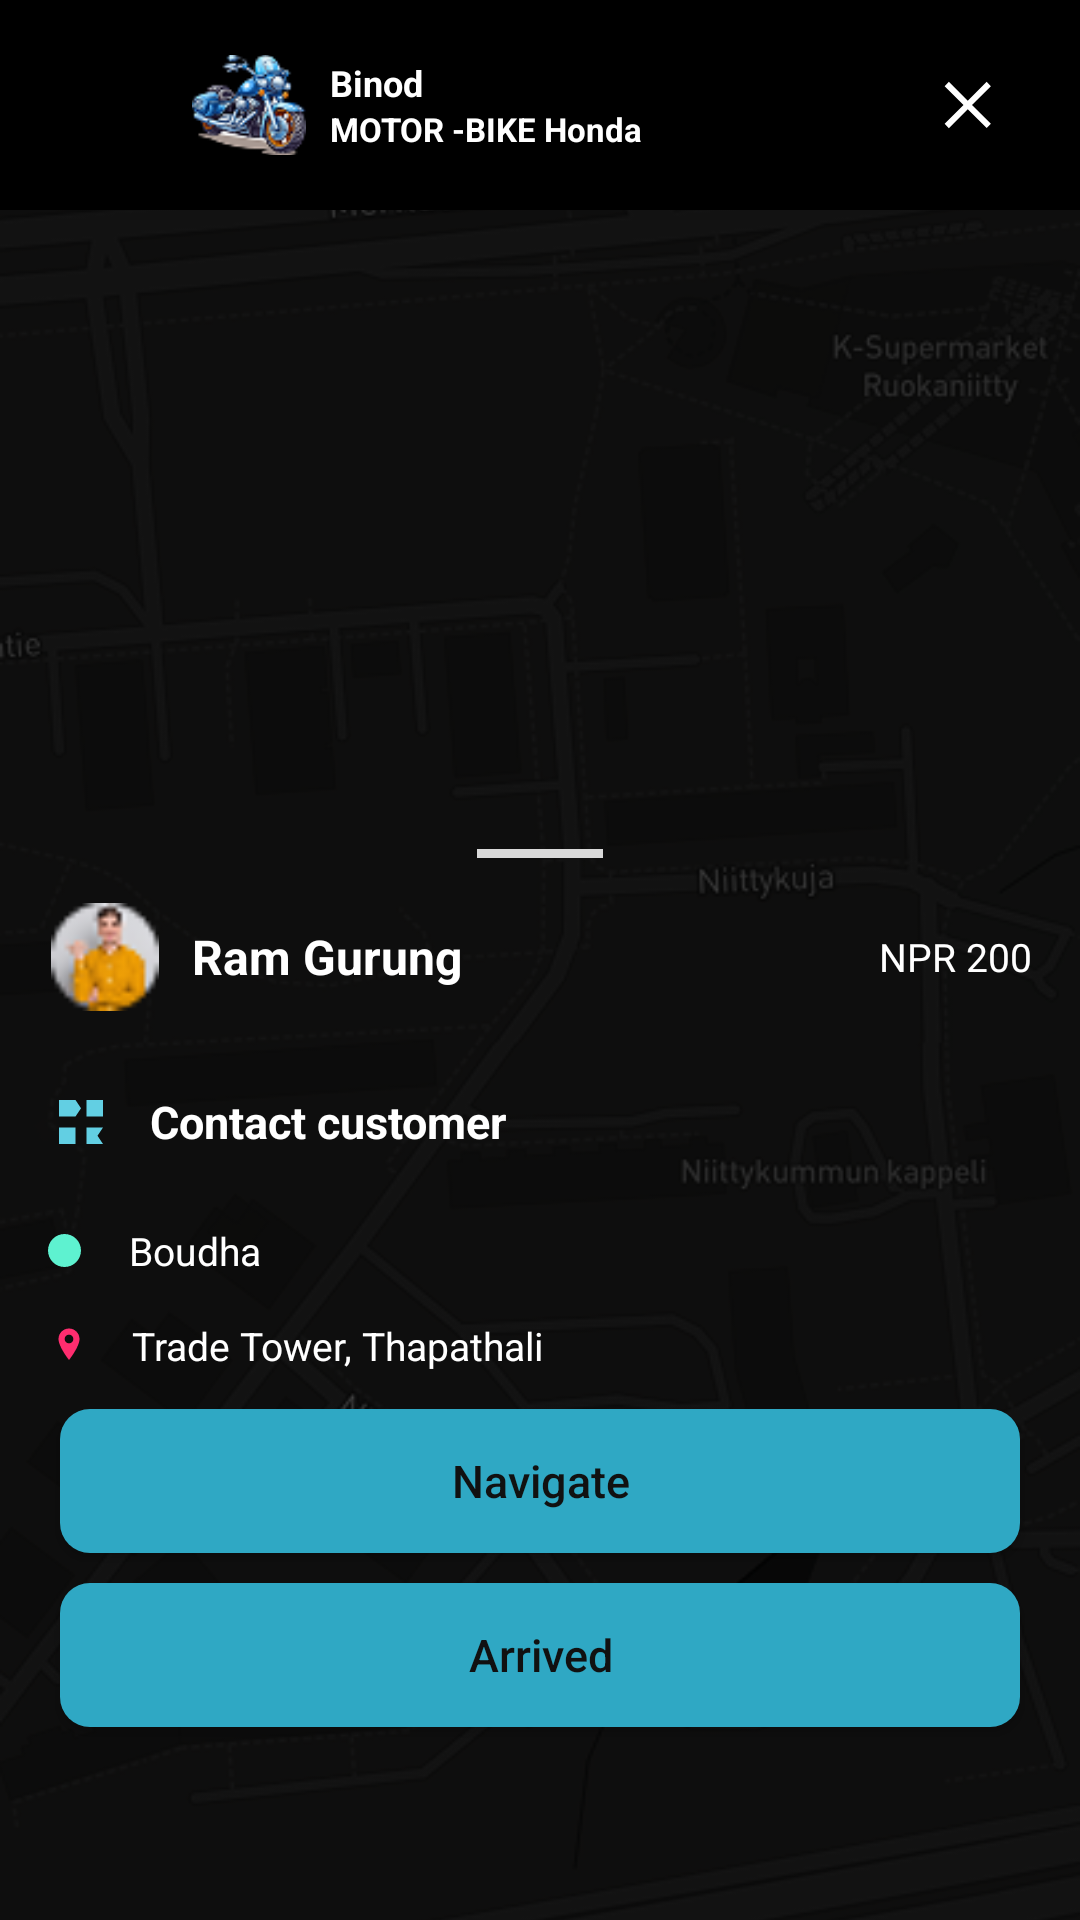

Screen size 1080x1920. Icon name, then its center in pixels as point (x, y):
Close: point (967, 105)
location pin: point (69, 1344)
